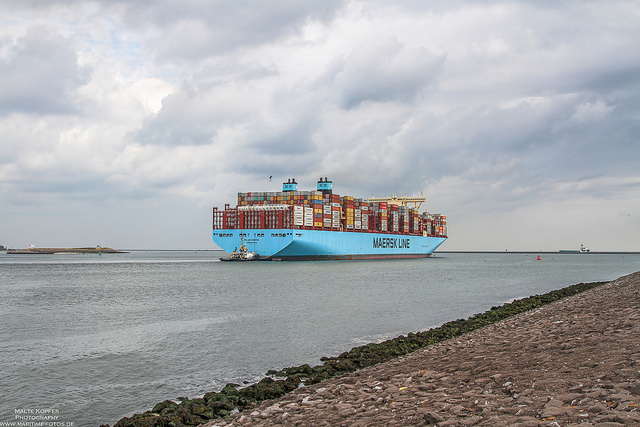container_ship: (214, 175, 449, 258)
tug_boat: (219, 234, 268, 264)
